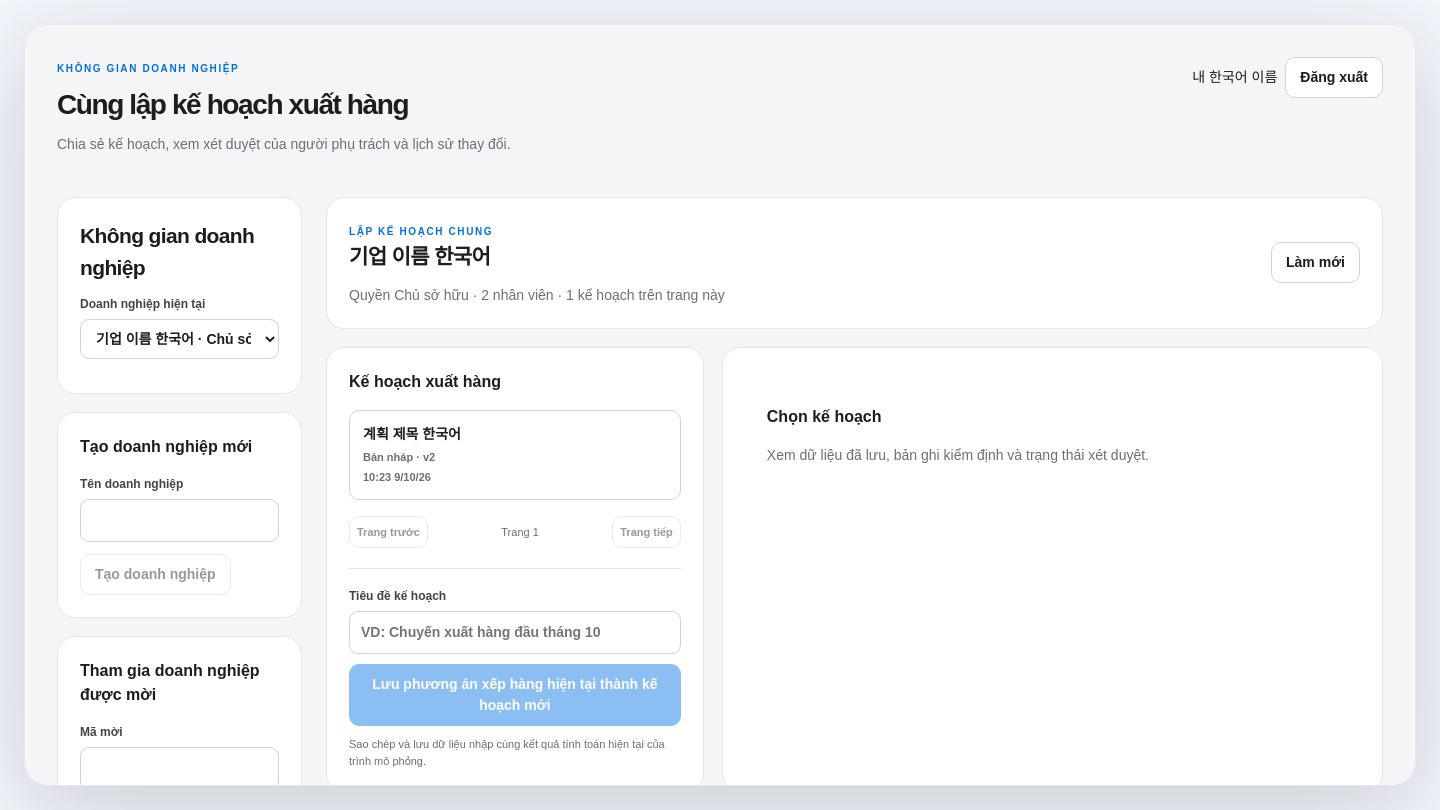
it: translates shared plans, diagnostics and dates without modifying user content in vi
What coordinates should you click on to do the following:
click the button "계획 제목 한국어 Bản nháp · v2 10:23 9/10/26"
I would click on:
 (412, 434)
Its box is [349, 410, 681, 500].
(page scrolled)
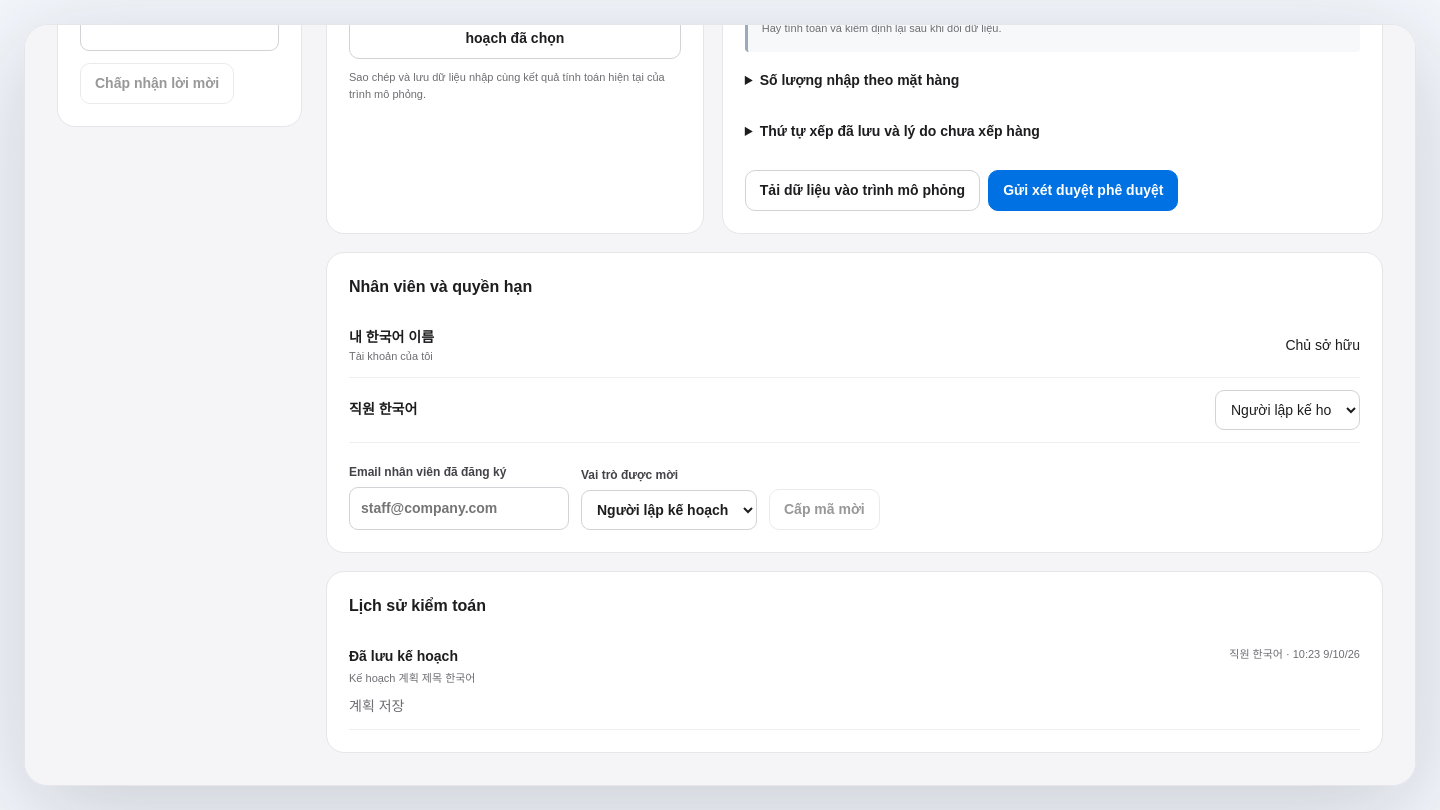
Check: the text "직원 한국어" is shown, box [349, 399, 417, 420]
Check: the text "계획 저장" is shown, box [349, 698, 404, 714]
Check: the text "Nhân viên và quyền hạn" is shown, box [349, 278, 532, 295]
